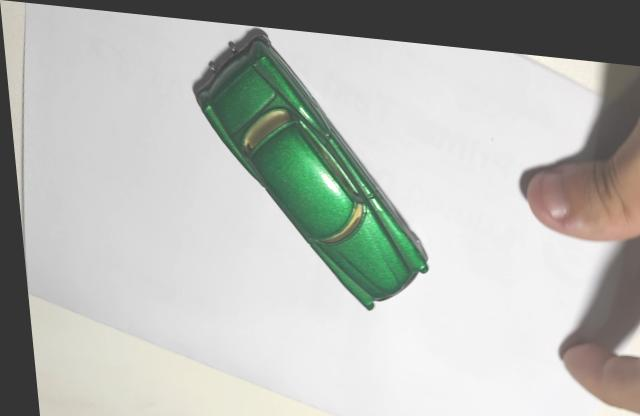06_MASERATI: (191, 21, 425, 302)
